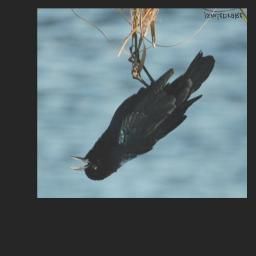Crow: (69, 45, 215, 181)
